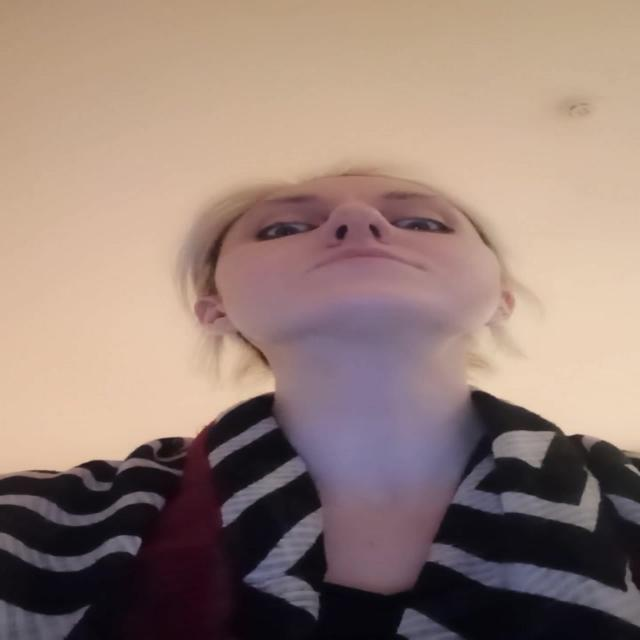earlobe: (484, 307, 508, 330), (214, 317, 240, 338)
eye: (254, 221, 316, 241), (388, 217, 450, 233)
nose: (318, 222, 402, 258)
wholeear: (194, 298, 242, 338), (486, 290, 520, 330)
